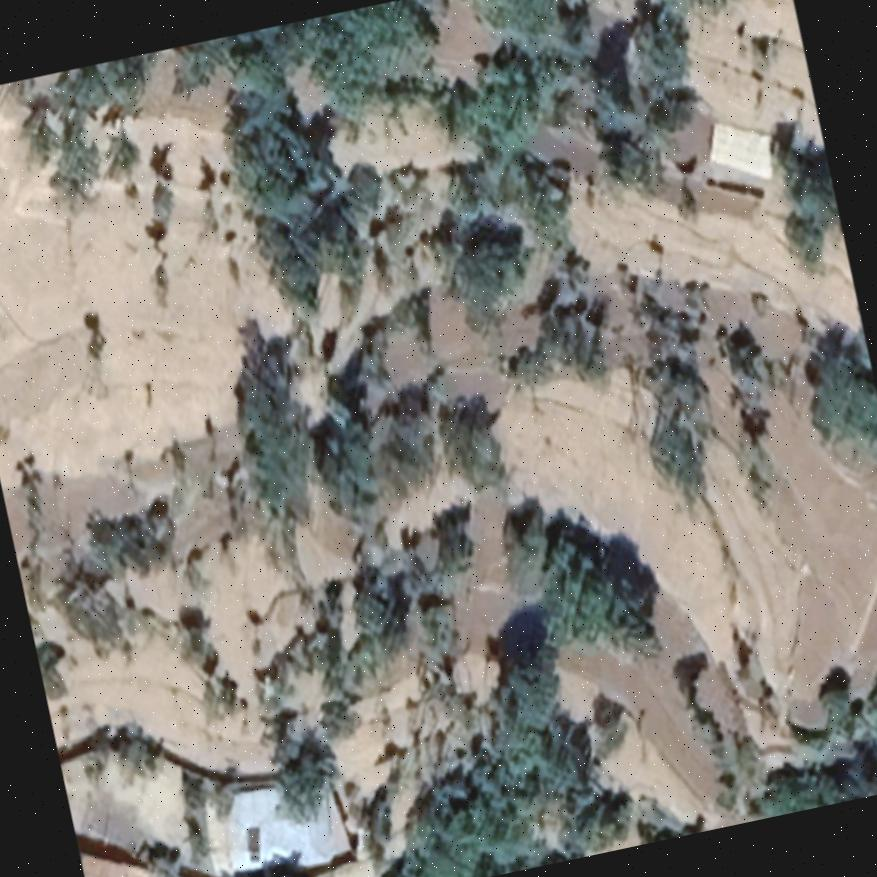Solarpanel: (237, 820, 268, 866)
